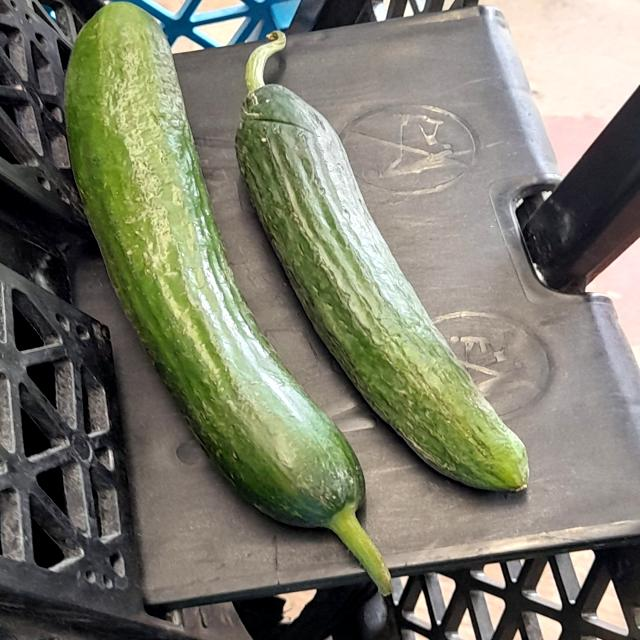cucumber: (50, 5, 387, 582), (216, 52, 532, 497)
